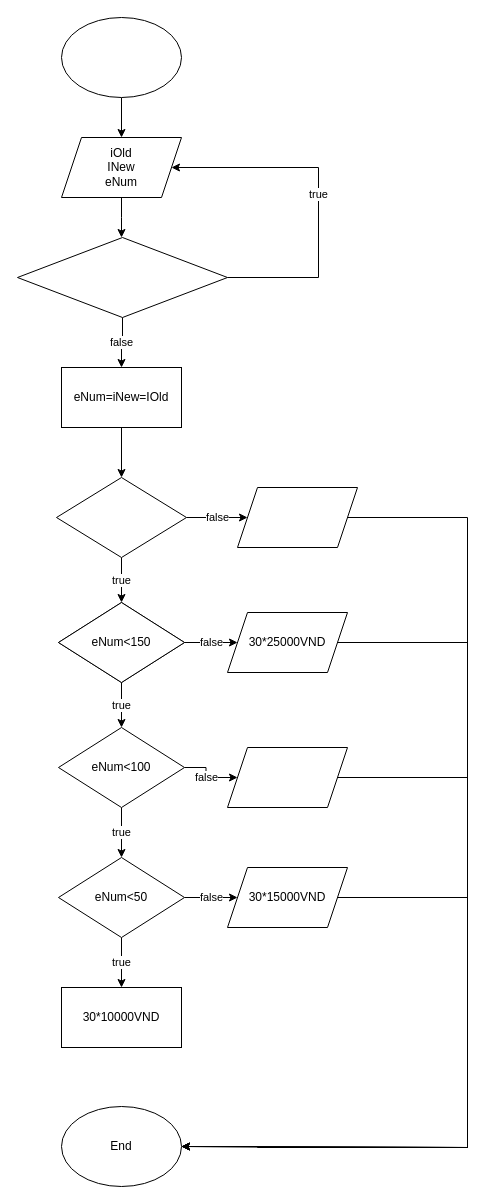
This 493x1204 diagram has some shape labels left out. The centre of each missing label's shape, as x and y in pixels:
"30*20000VND" belongs at point 287,777.
"30*30000VND" belongs at point 297,517.
"eNum<250" belongs at point 121,517.
"INew < iOld" belongs at point 122,277.
"Start" belongs at point 121,57.
